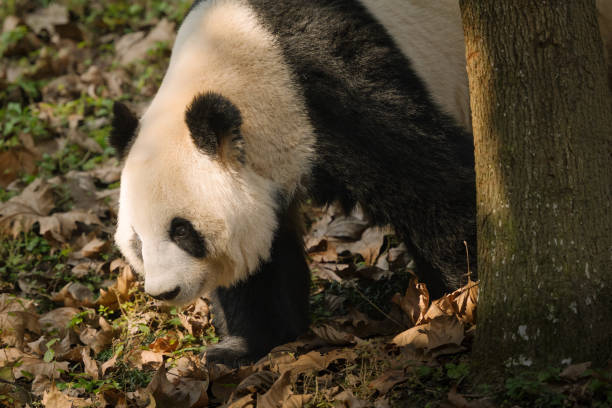panda: (82, 83, 309, 319)
